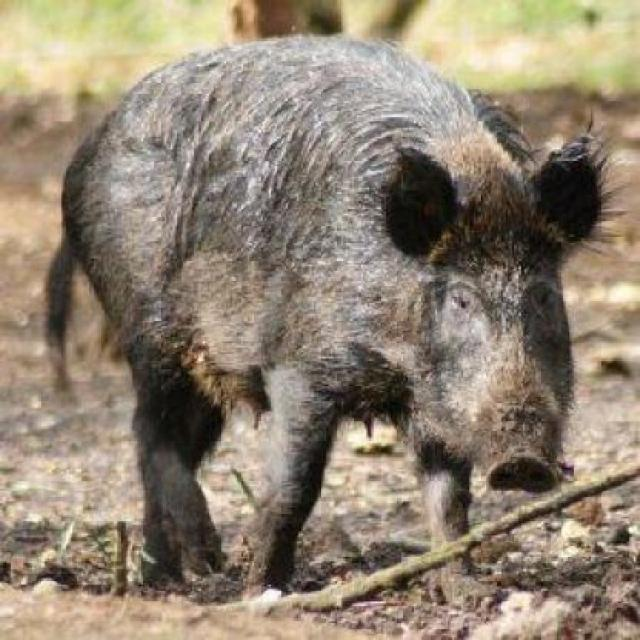wildboar: (41, 32, 612, 610)
